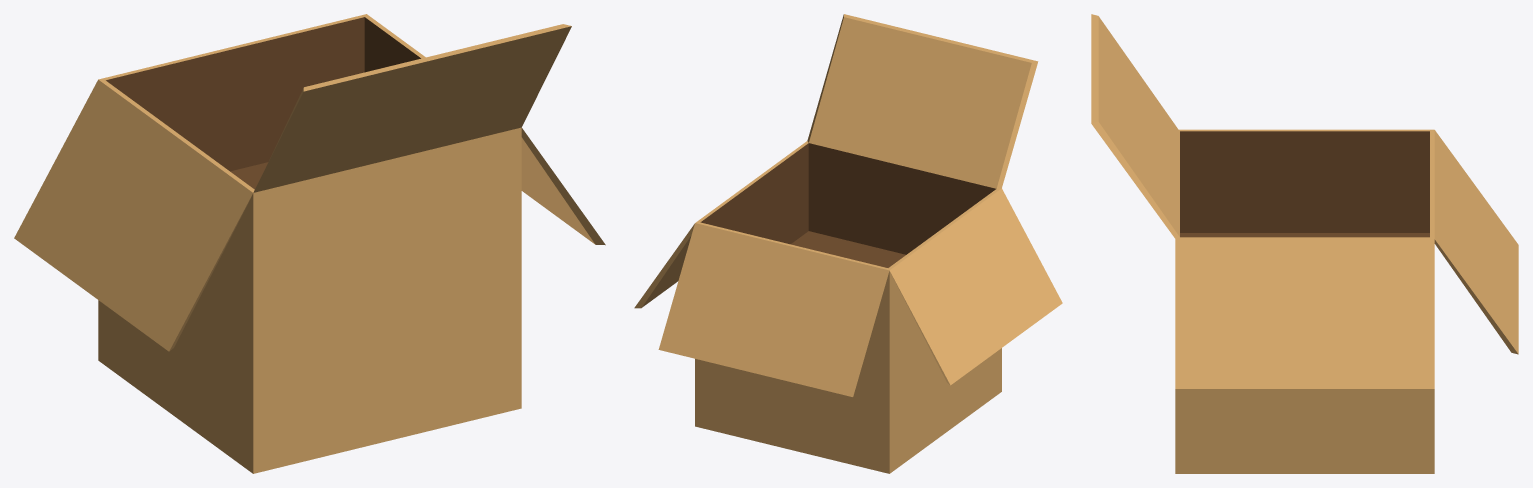
The picture shows the model from 3 angles, left to right: view 1: azimuth 30°, elevation 25°; view 2: azimuth 150°, elevation 25°; view 3: azimuth 270°, elevation 25°; orthographic projection. The views are drawn at different scales.
Parts seen in each view (by area): view 1: Cube; view 2: Cube; view 3: Cube.
Part boxes in pixels (left/top/right/bottom): Cube: left=14, top=14, right=605, bottom=473; Cube: left=634, top=14, right=1062, bottom=473; Cube: left=1091, top=14, right=1518, bottom=473.
Size of the model in its own units: 827 by 758 by 839.
